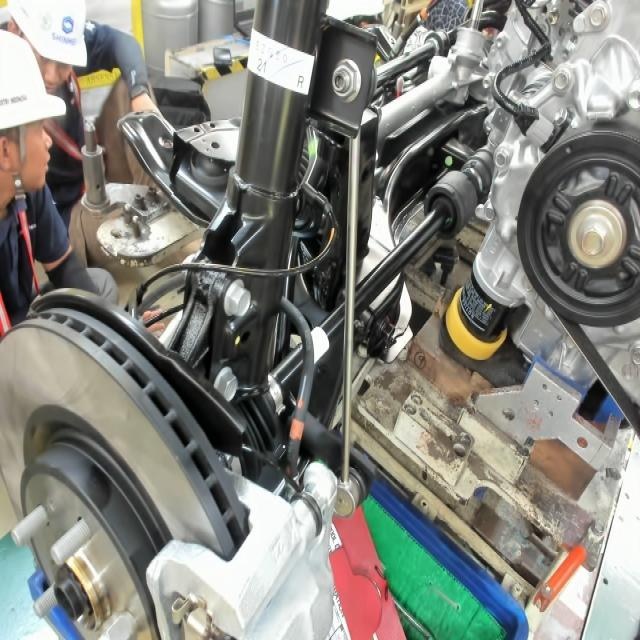Absorber RH-21: (250, 53, 278, 81)
Disc-HT: (8, 403, 171, 635)
Drive Shaft-PT: (305, 323, 331, 365)
